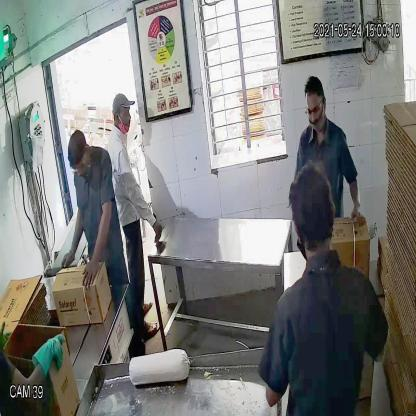goggles: (304, 98, 324, 122)
